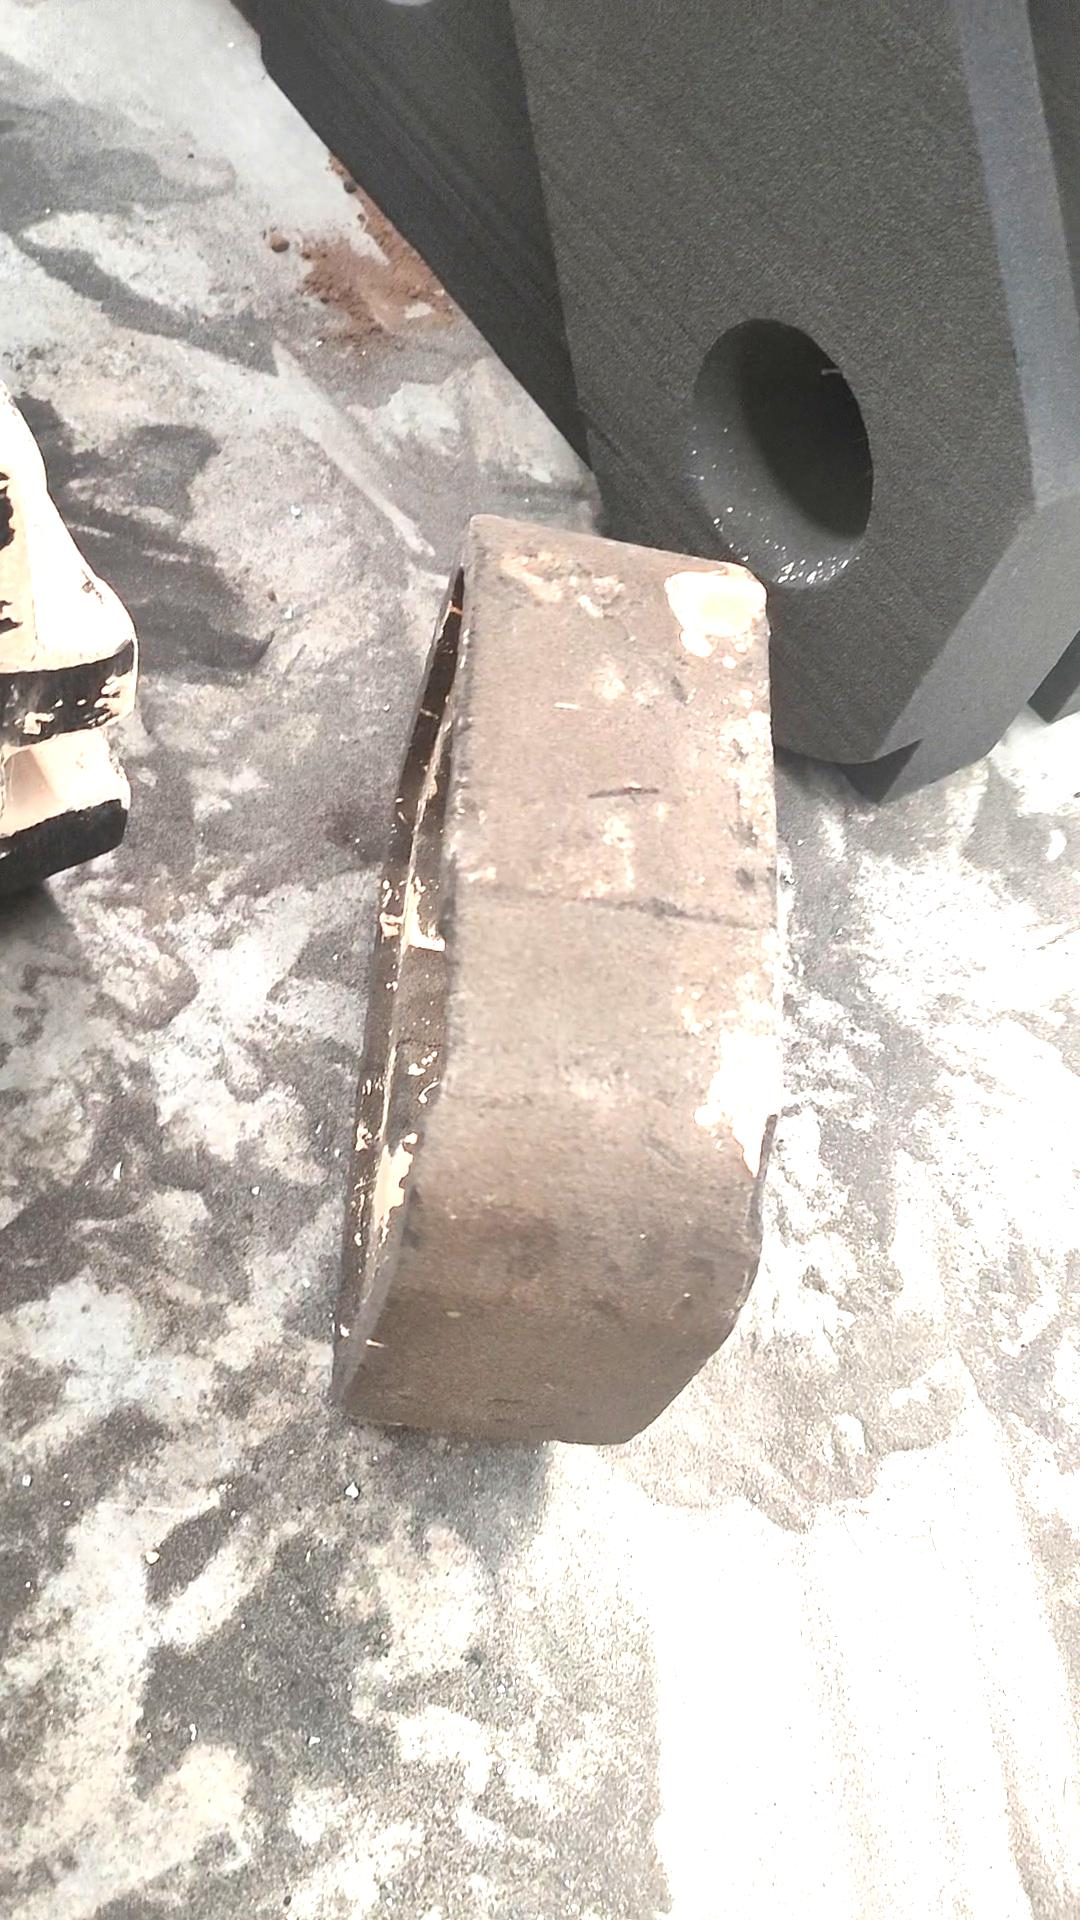pouring hole: (683, 313, 876, 596)
